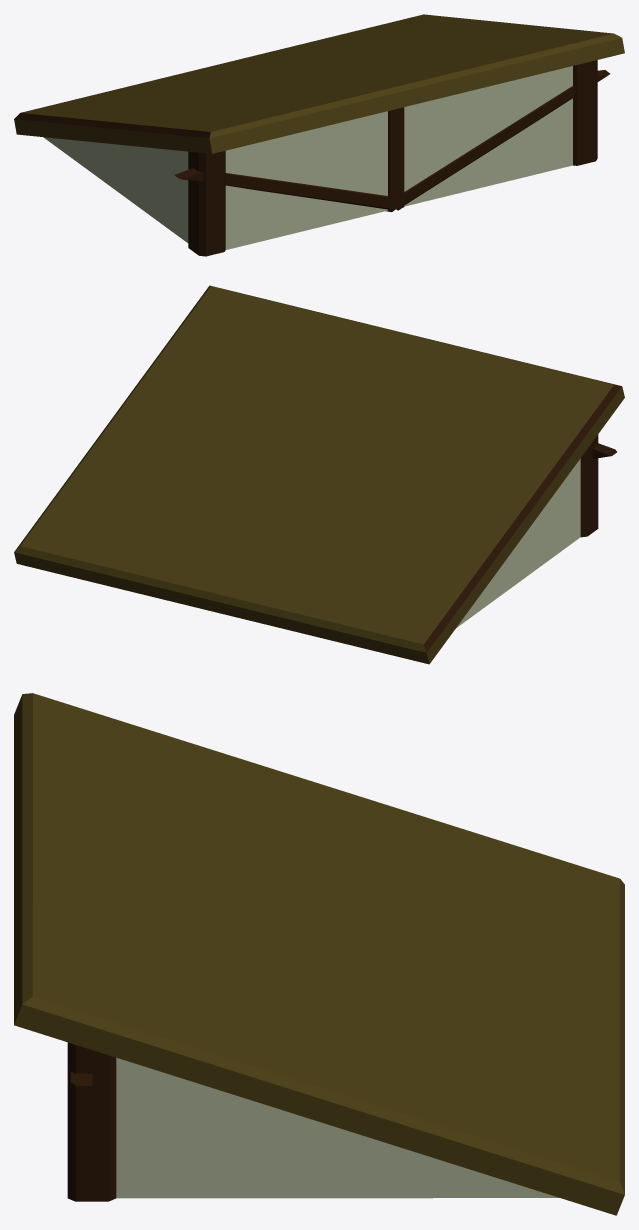
The model's file is Roof_Half02_FBX.fbx.
3 views of the same model, one above another, from view 1: azimuth 30°, elevation 25°; view 2: azimuth 150°, elevation 25°; view 3: azimuth 270°, elevation 25° (orthographic). The views are drawn at different scales.
Parts seen in each view (by area): view 1: Roof013, Roof 008, Box242, Box240, Box176, Box241, Roof_Half; view 2: Roof013, Roof 008, Box242; view 3: Roof013, Roof 008, Box241.
Boxes of the visible parts, x1,y1,x2,y2 form: Roof013: [14, 14, 624, 153]; Roof 008: [43, 66, 572, 249]; Box242: [188, 151, 225, 256]; Box240: [174, 168, 395, 211]; Box176: [396, 70, 610, 210]; Box241: [573, 60, 597, 165]; Roof_Half: [388, 107, 404, 210]; Roof013: [14, 285, 624, 664]; Roof 008: [456, 458, 580, 627]; Box242: [580, 434, 598, 537]; Roof013: [14, 693, 624, 1215]; Roof 008: [116, 1058, 559, 1198]; Box241: [67, 1042, 116, 1201].
Size of the model in its own units: 940 by 292 by 749.
